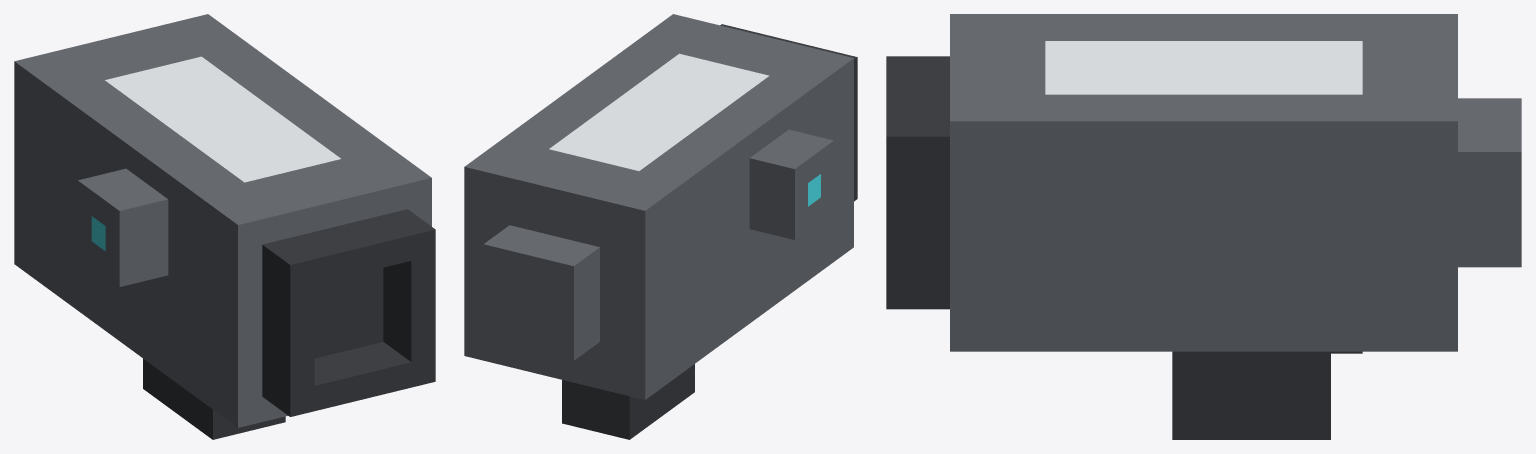
File: Blaster.fbx
3 views of the same model, side by side, from view 1: azimuth 30°, elevation 25°; view 2: azimuth 150°, elevation 25°; view 3: azimuth 270°, elevation 25° (orthographic). The views are drawn at different scales.
Visible parts, largest first — view 1: Untitled; view 2: Untitled; view 3: Untitled.
Boxes of the visible parts, x1,y1,x2,y2 form: Untitled: (14, 14, 435, 439); Untitled: (464, 14, 857, 439); Untitled: (886, 14, 1521, 439).
Size of the model in its own units: 100 by 120 by 200.
1 material, 1 textured.
